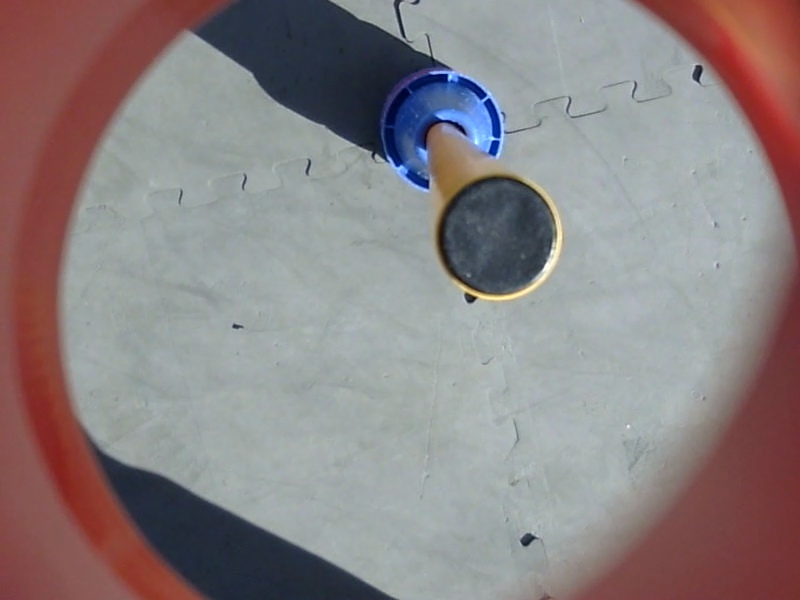tip: (425, 168, 571, 310)
